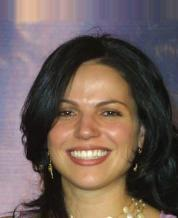face: (58, 98, 123, 167)
